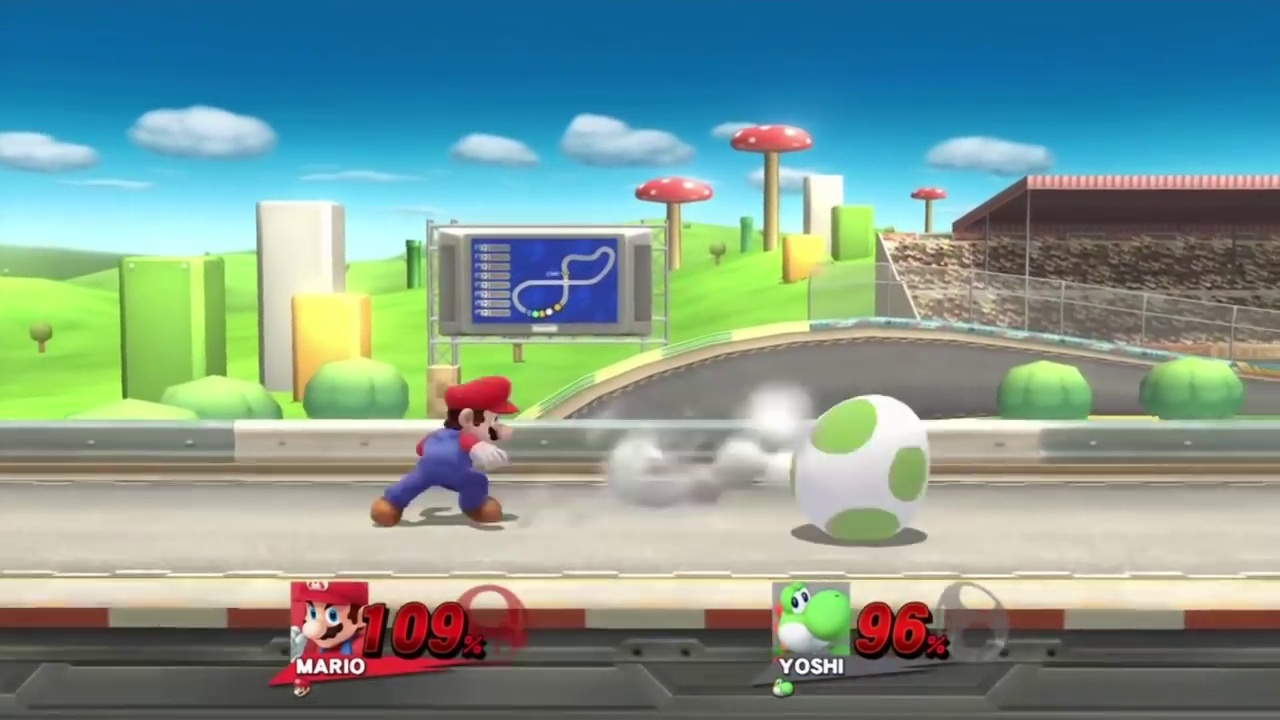Mario: (370, 379, 517, 523)
